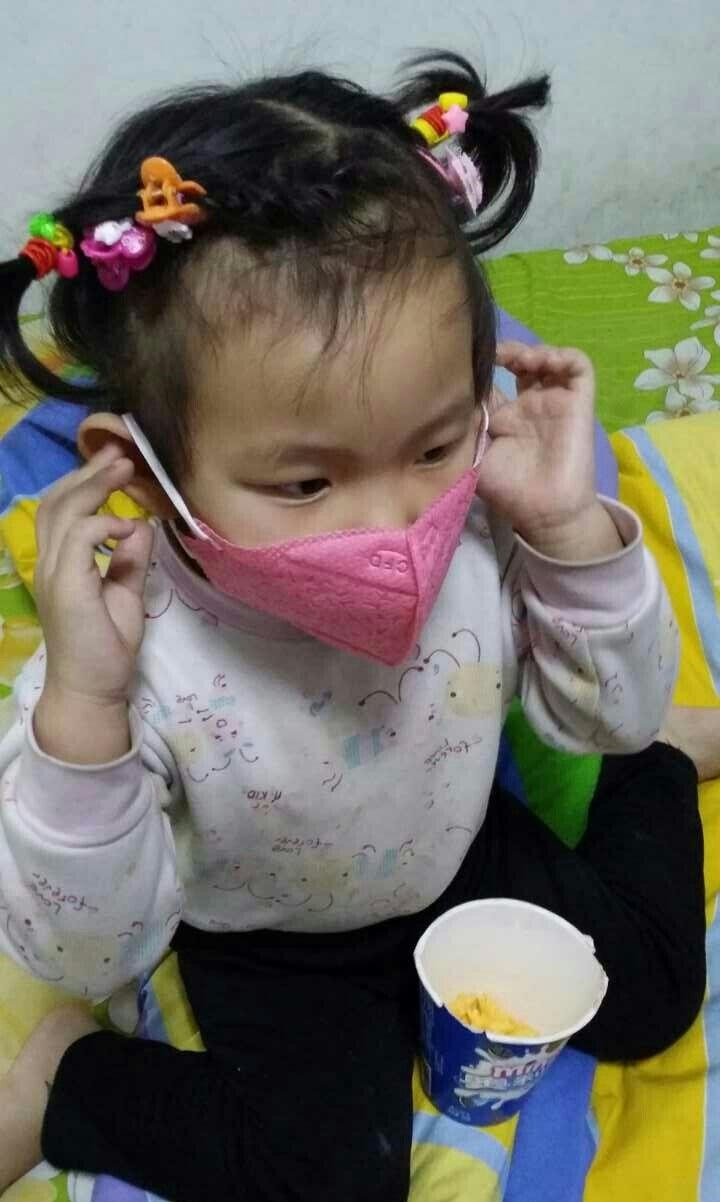face_mask: (181, 224, 481, 664)
